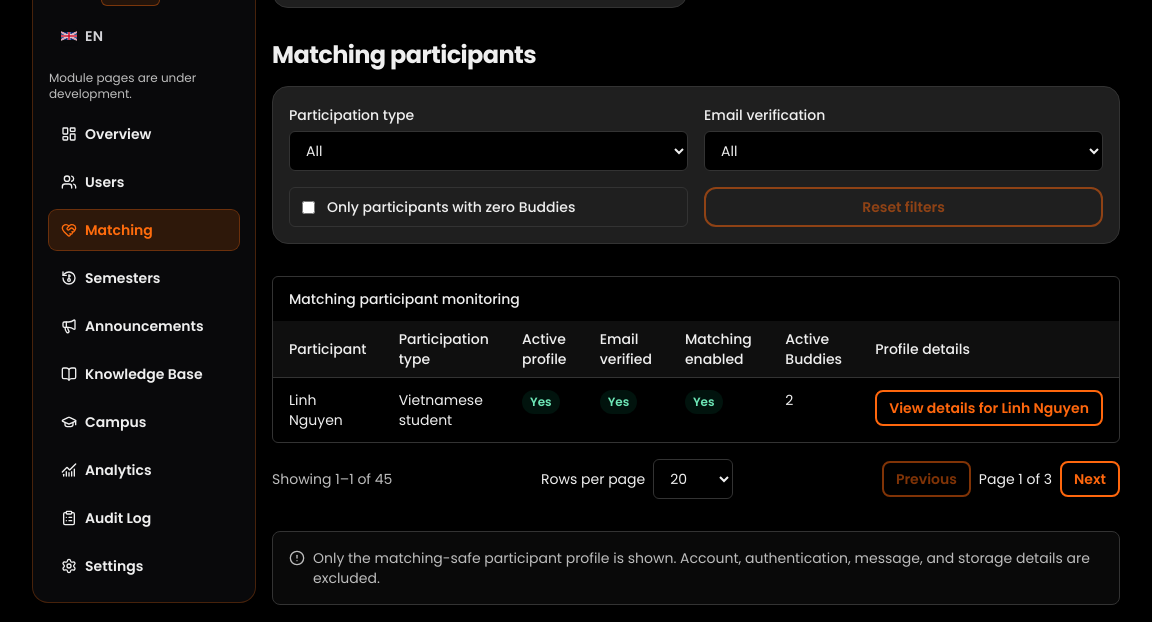
ADMIN-V2-002 guarded matching monitoring UI › opens a localized read-only participant detail with profile preferences
The width and height of the screenshot is (1152, 622).
(page scrolled)
Click the button "View details for Linh Nguyen" at (989, 408), box [875,390,1103,426]
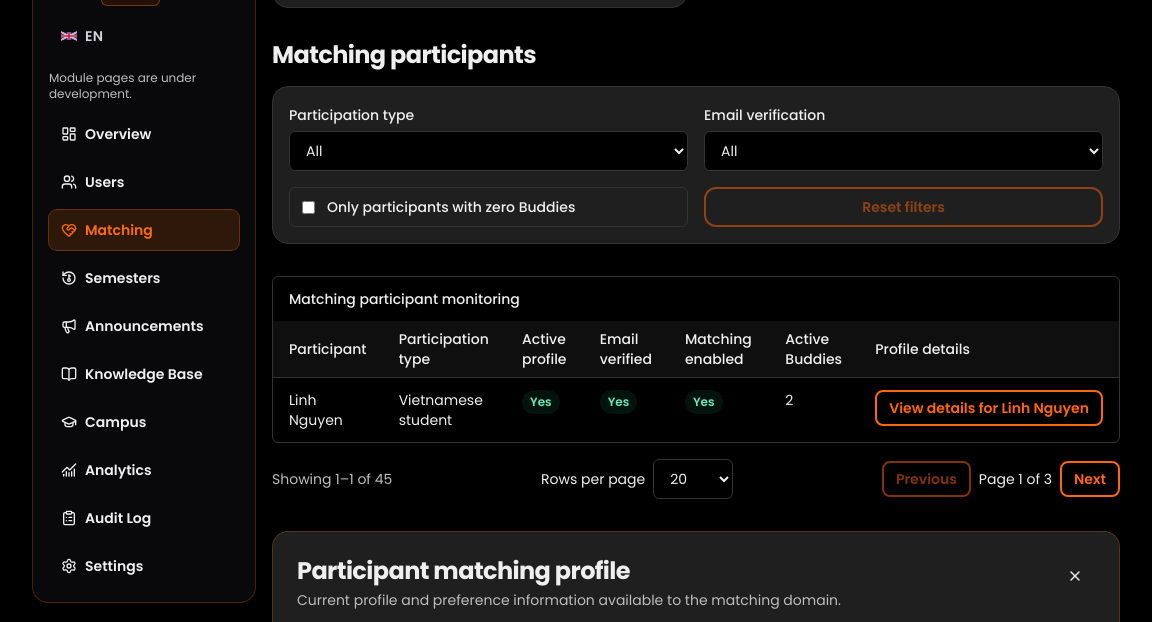
expect the heading "Participant matching profile" is shown: met, box [297,554,630,587]
Click the button with aria-label "Switch to German" at (82, 36), box [49,18,116,54]
(page scrolled)
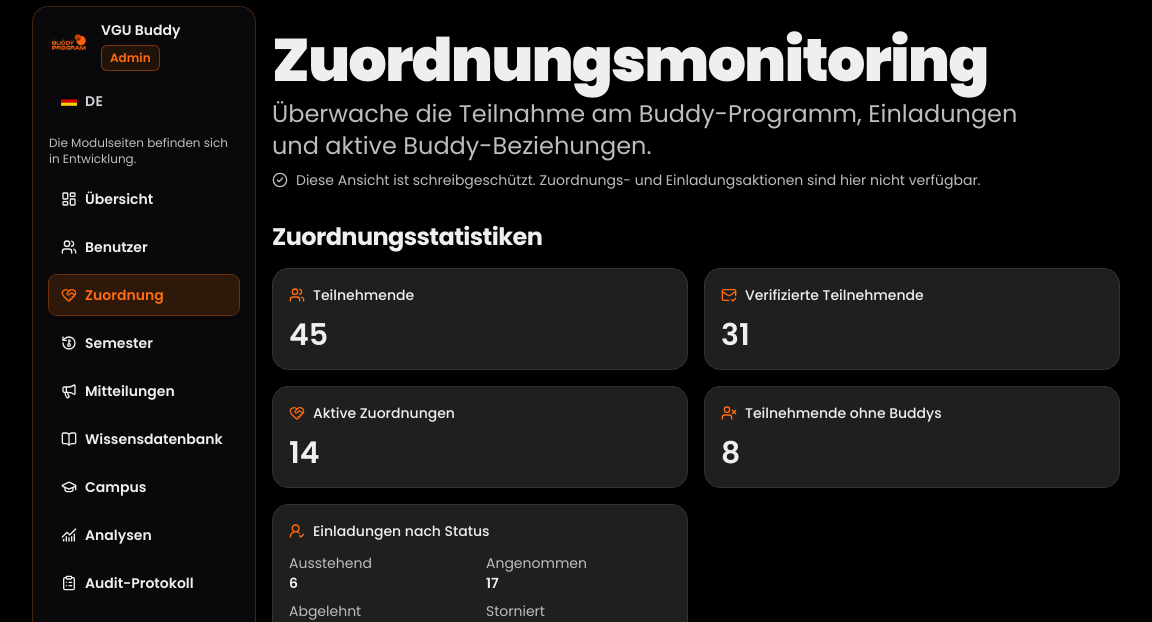
expect the heading "Zuordnungsmonitoring" is shown: met, box [272,18,988,102]
